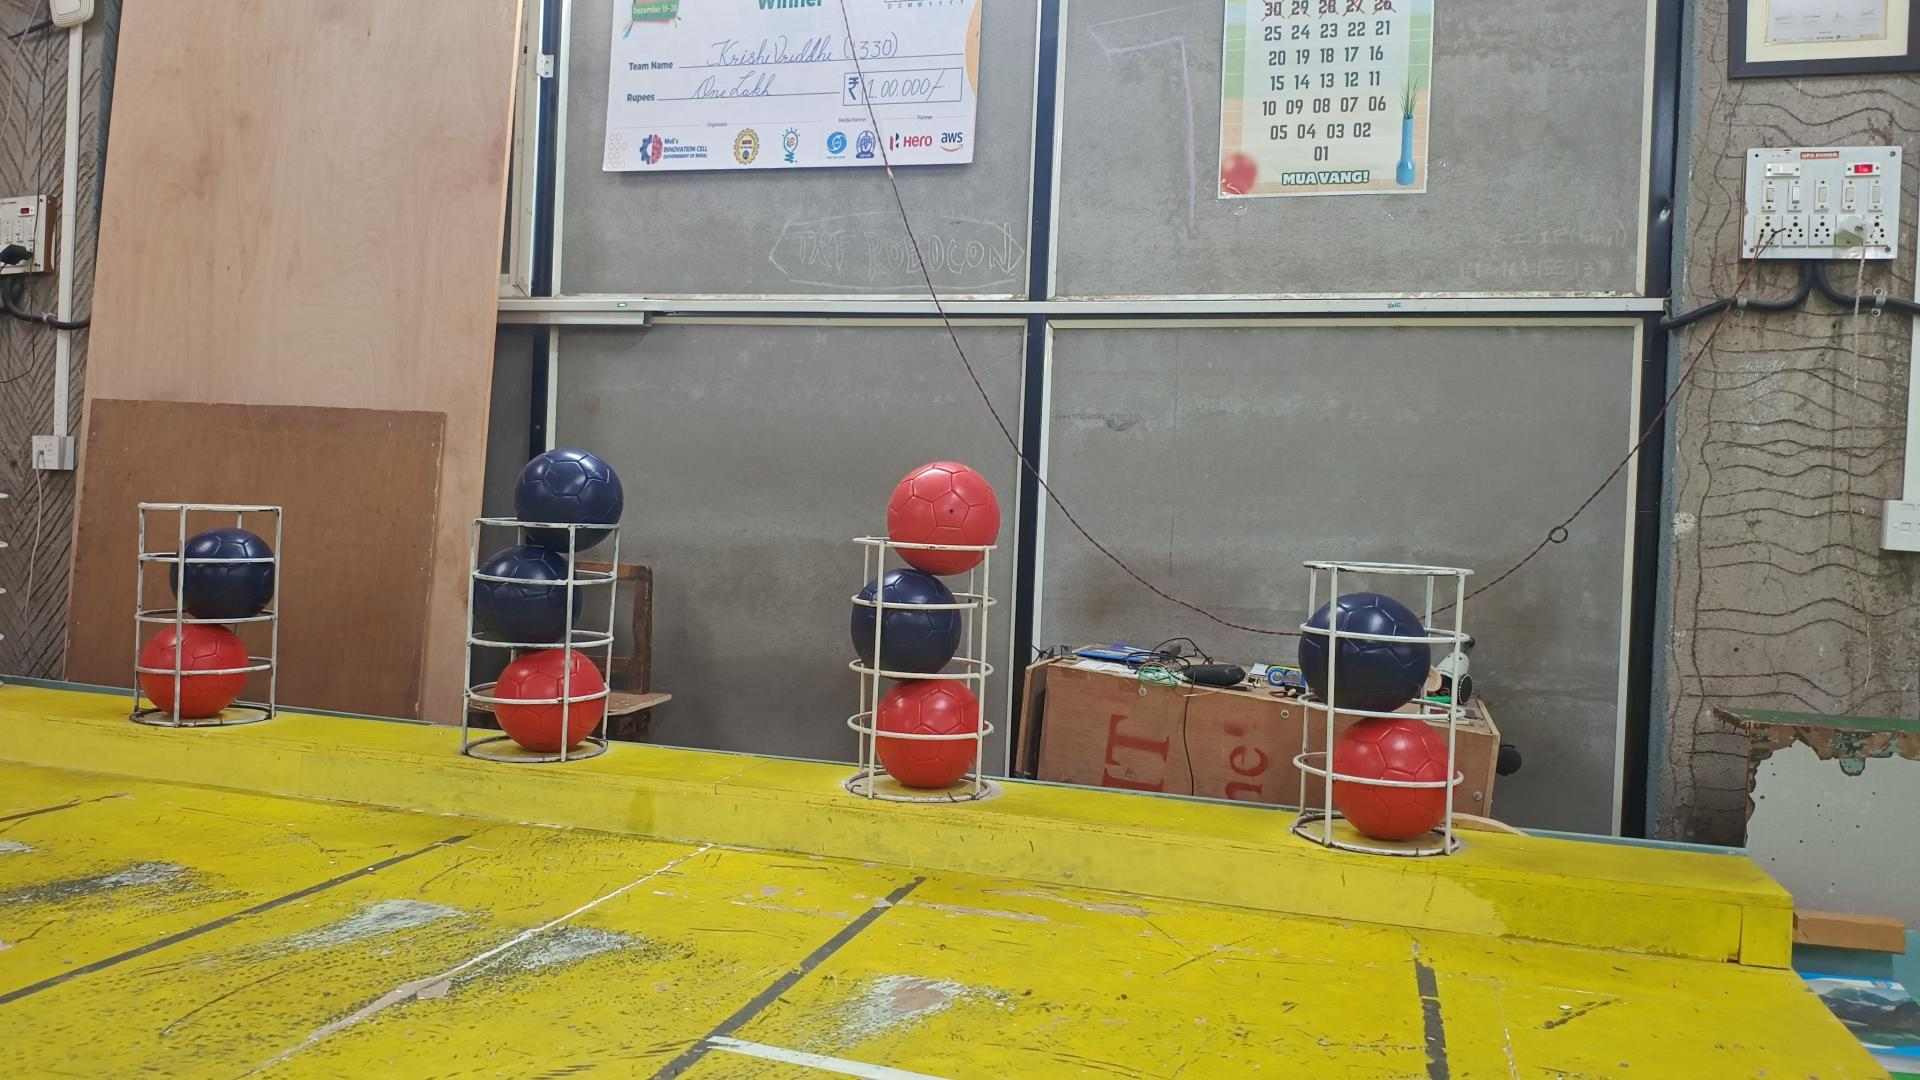dhoka: (1298, 592, 1432, 712), (852, 566, 964, 675), (514, 446, 622, 551), (472, 543, 582, 645), (169, 529, 277, 618)
laale: (1332, 716, 1458, 840), (885, 462, 1001, 578), (495, 649, 608, 754), (874, 679, 982, 787), (138, 622, 248, 720)
